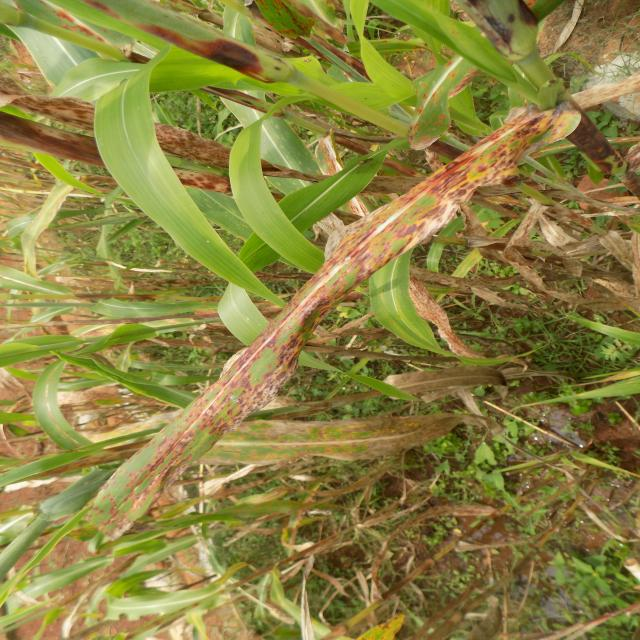millet_healthy: (92, 58, 298, 322), (214, 146, 419, 404), (363, 194, 517, 376), (216, 97, 366, 263), (340, 0, 472, 150), (27, 310, 150, 464), (371, 0, 546, 97), (0, 9, 151, 106), (95, 580, 269, 627)
millet_rust: (79, 105, 564, 551), (0, 71, 427, 195), (112, 392, 506, 468), (0, 105, 293, 196), (146, 408, 494, 470), (233, 0, 408, 75), (447, 251, 640, 313), (490, 205, 640, 274), (383, 501, 509, 530)
